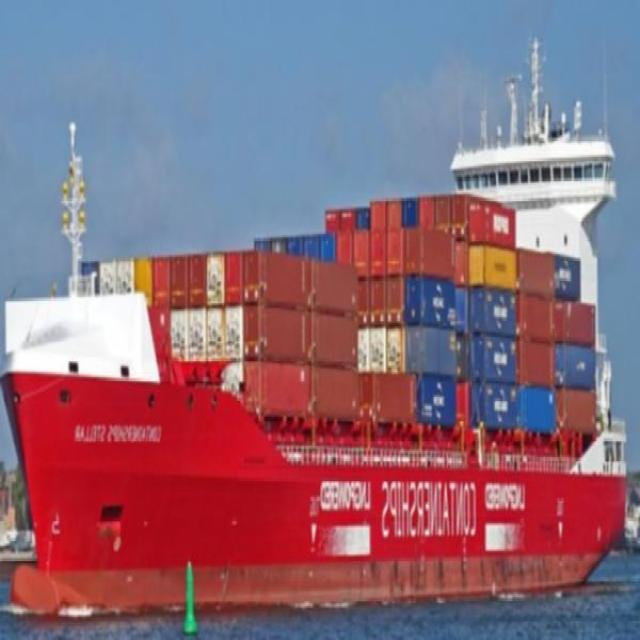Container Ship: (2, 42, 627, 615)
